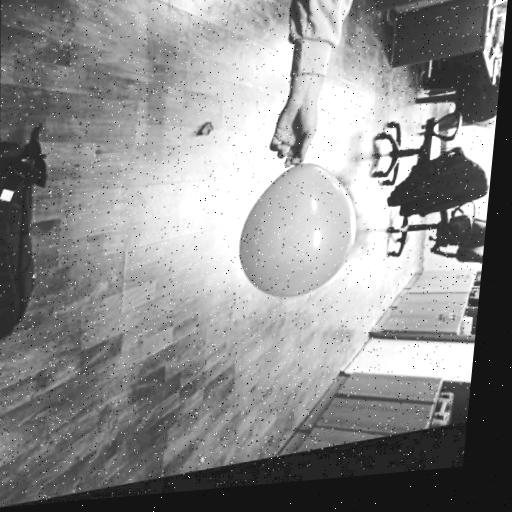balloon: (218, 163, 361, 315)
